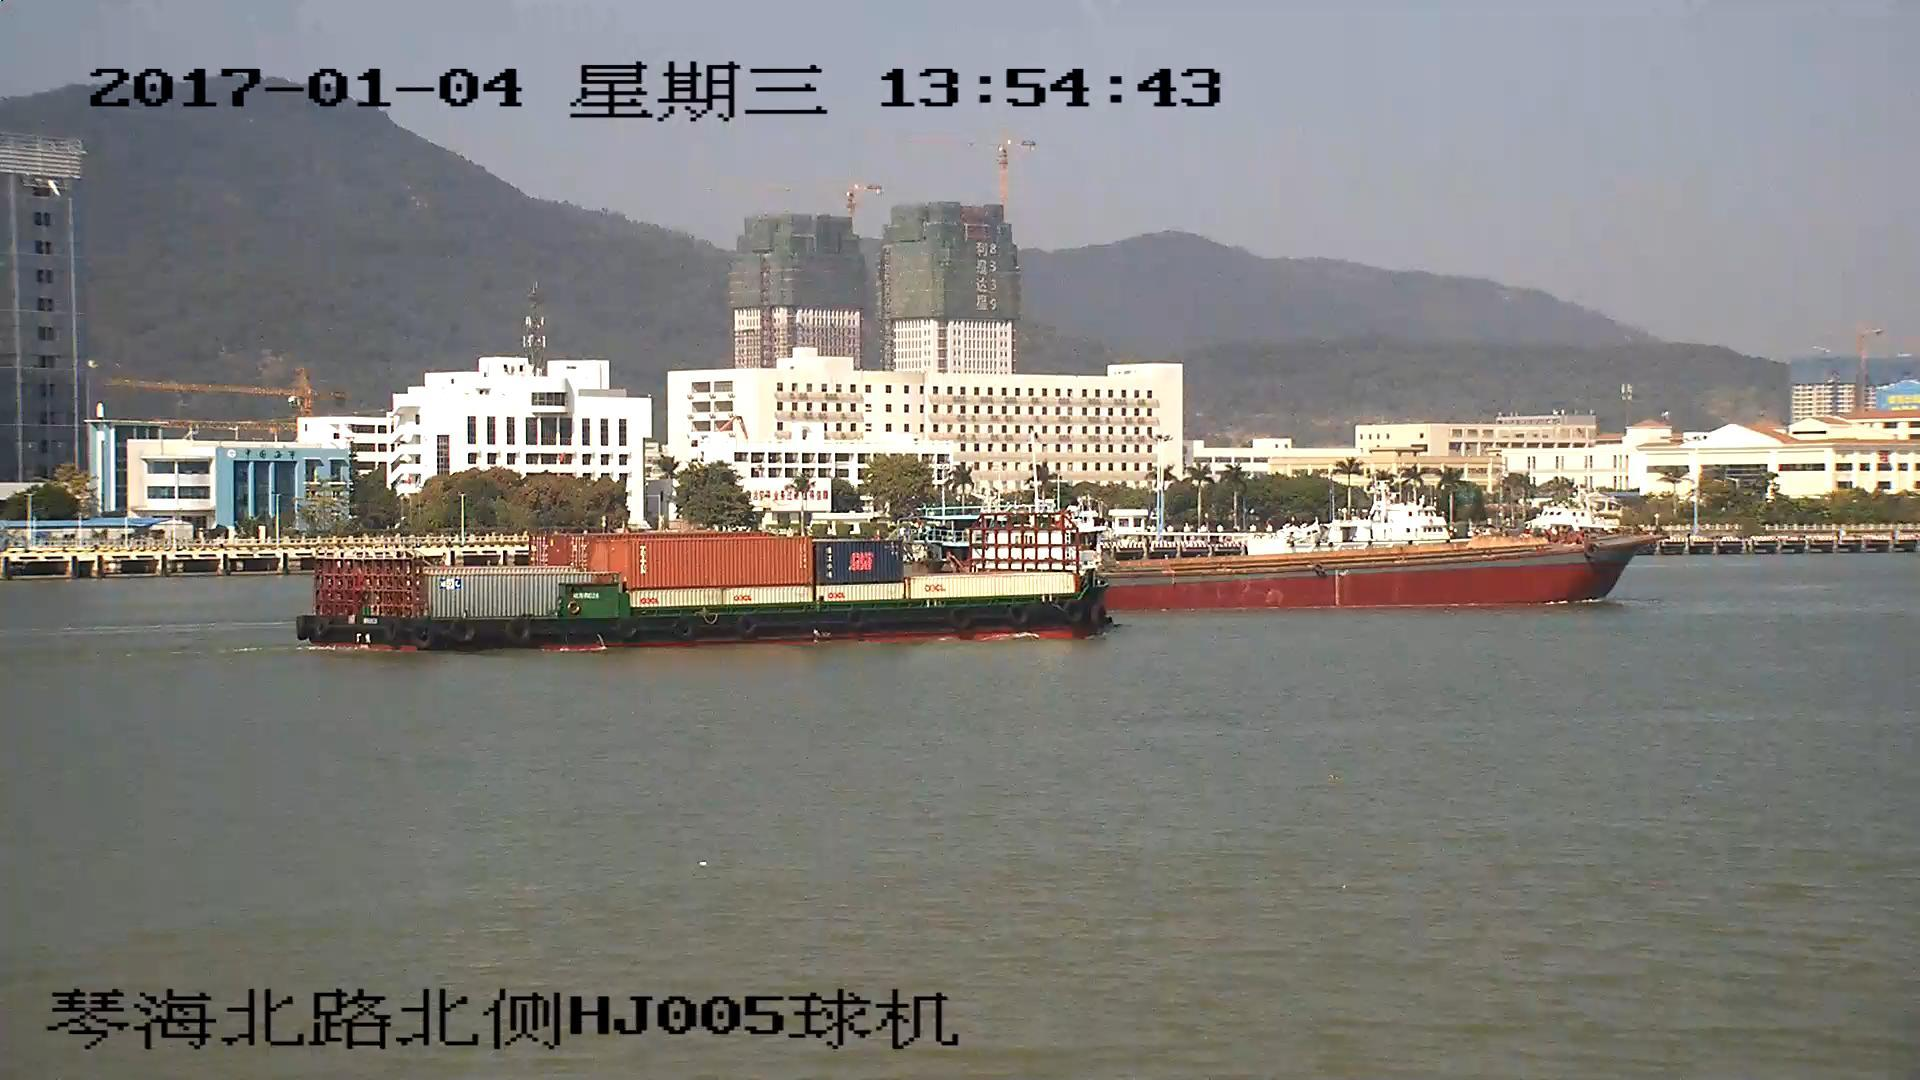Ship: (298, 518, 1131, 650), (1120, 538, 1672, 608)
